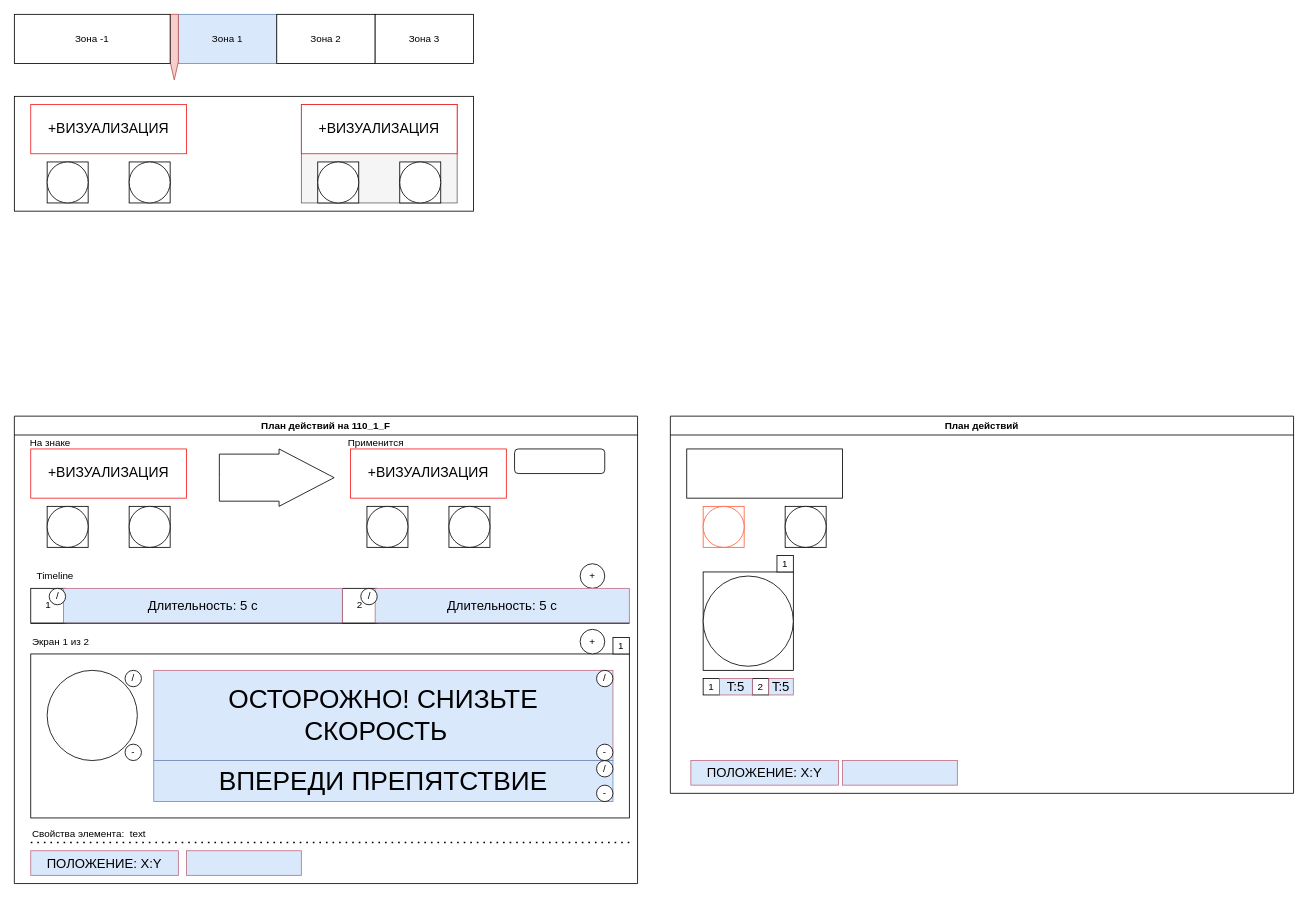
Some shapes in this 1308 by 898 pixel diagram are drawn without their labels. The shapes that lost their labels are listed below. From the top down, each one's centre as x and y in pixels, then its label:
the point at 559,461: Применить
the point at 899,772: Картиника: 1.bmp
the point at 243,862: ШРИФТ: 32
